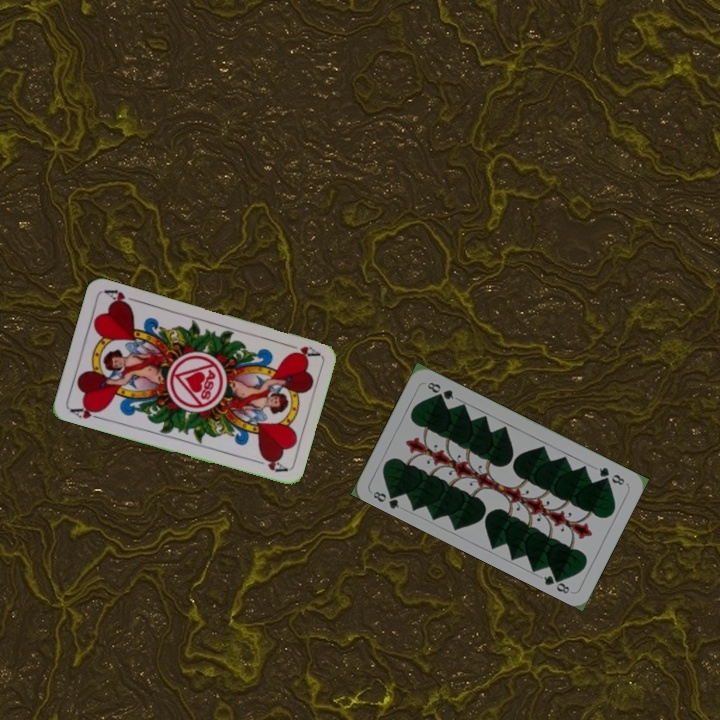G8: (594, 463, 627, 488), (369, 486, 402, 511)
HA: (282, 339, 322, 362), (66, 401, 106, 423)
